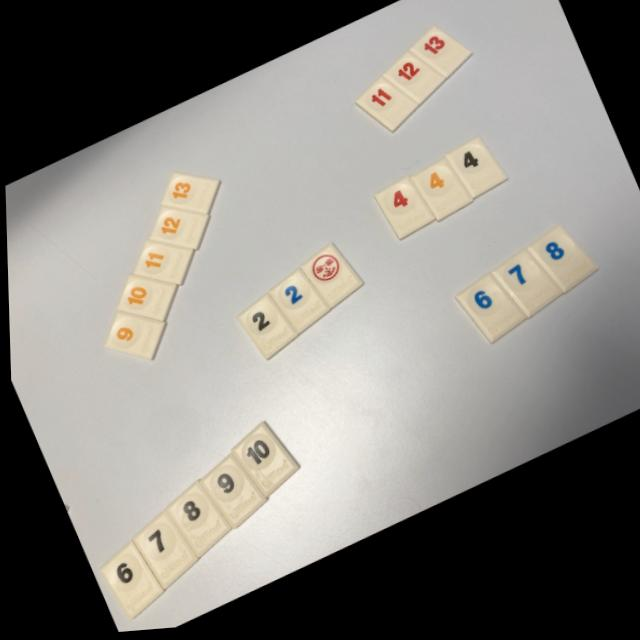black_10: (230, 426, 296, 501)
black_2: (235, 298, 296, 364)
black_4: (445, 144, 506, 205)
black_6: (97, 543, 159, 621)
black_7: (131, 514, 193, 591)
black_8: (163, 484, 228, 561)
black_9: (198, 458, 263, 532)
blue_2: (267, 274, 328, 339)
blue_6: (453, 281, 524, 351)
blue_7: (491, 257, 561, 327)
blue_8: (526, 233, 596, 303)
joker: (299, 249, 361, 313)
orange_10: (115, 276, 174, 324)
orange_11: (132, 243, 191, 287)
orange_12: (149, 210, 207, 252)
orange_13: (161, 174, 218, 217)
orange_4: (410, 166, 471, 227)
orange_9: (103, 313, 164, 362)
red_11: (356, 83, 418, 139)
red_12: (383, 58, 445, 111)
red_13: (409, 32, 472, 85)
red_4: (373, 184, 433, 246)
